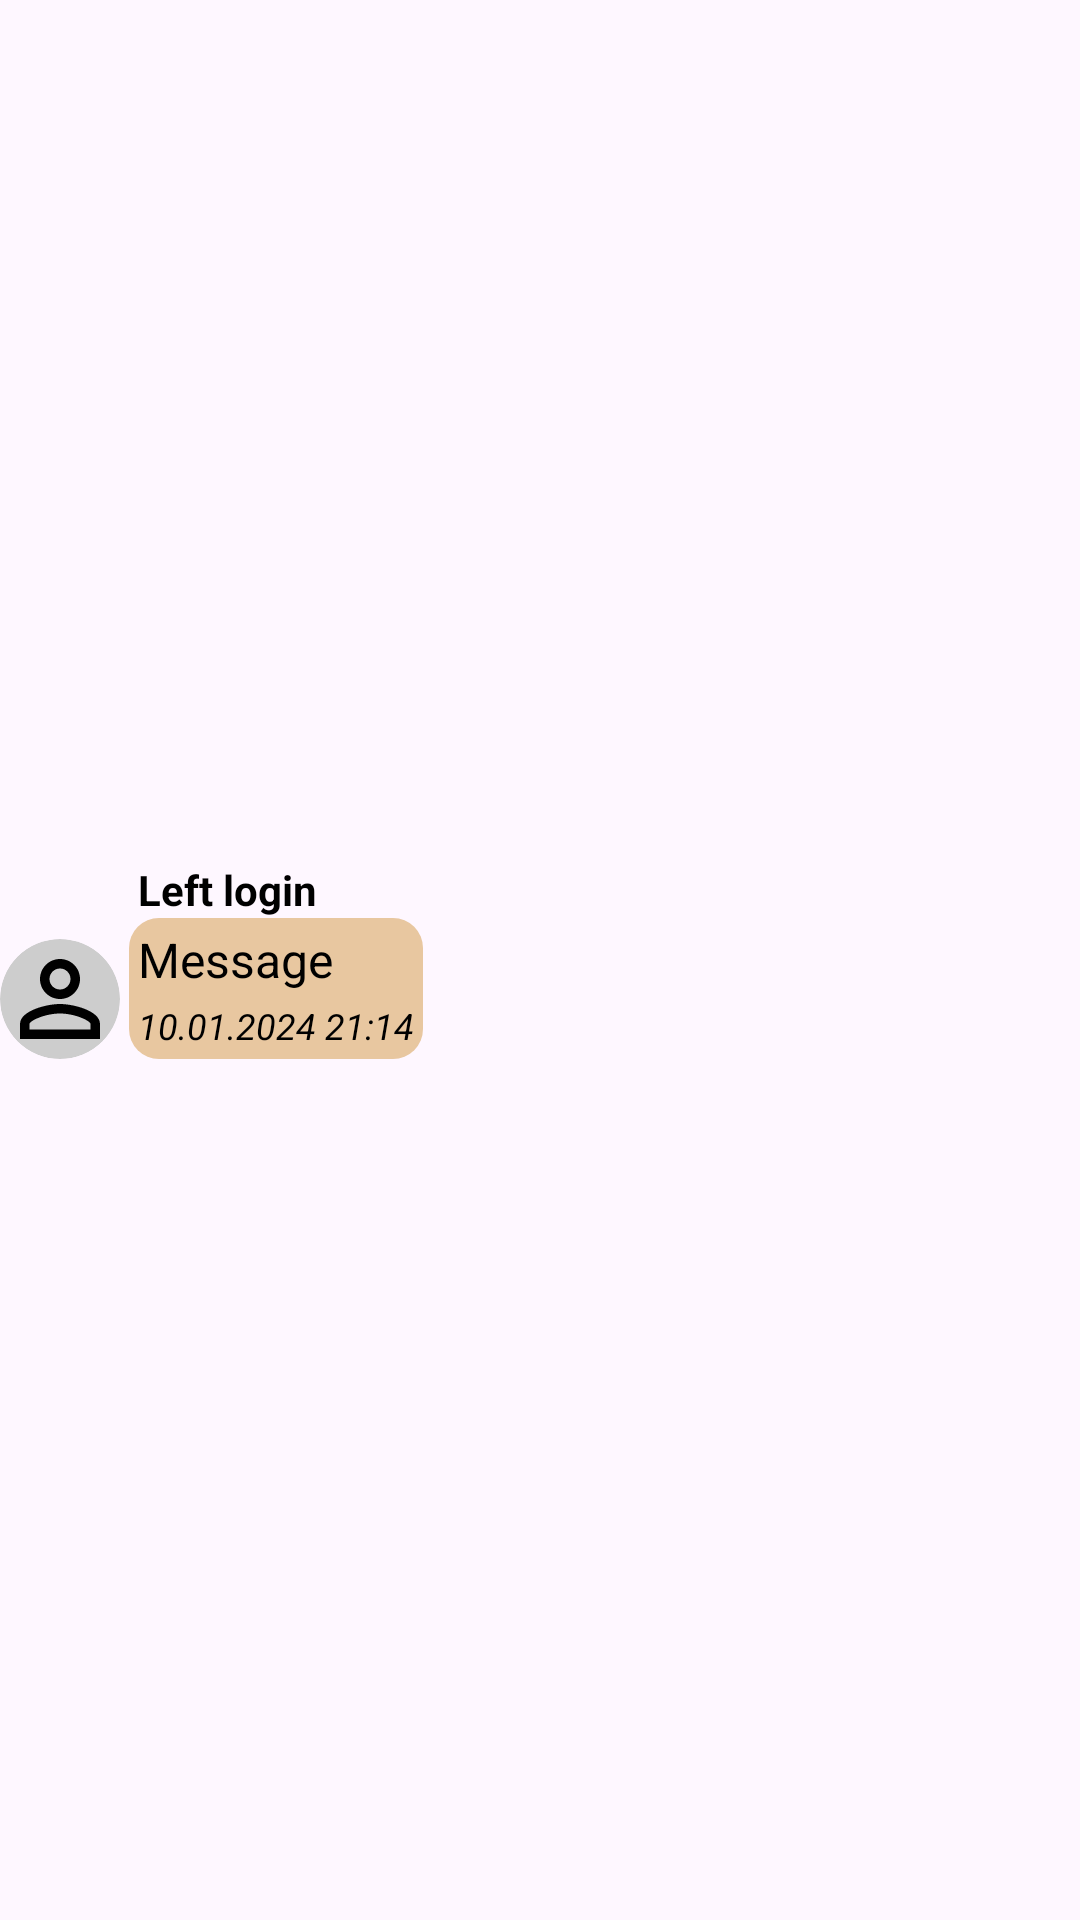

Locate icon controls on the screen. Image size 1080 x 1920, boxes as Rect(x1, y1, x2, y2).
person: Rect(0, 939, 120, 1059)
